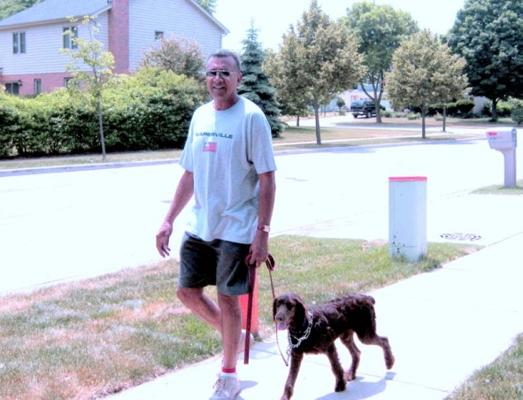person: (158, 49, 278, 400)
